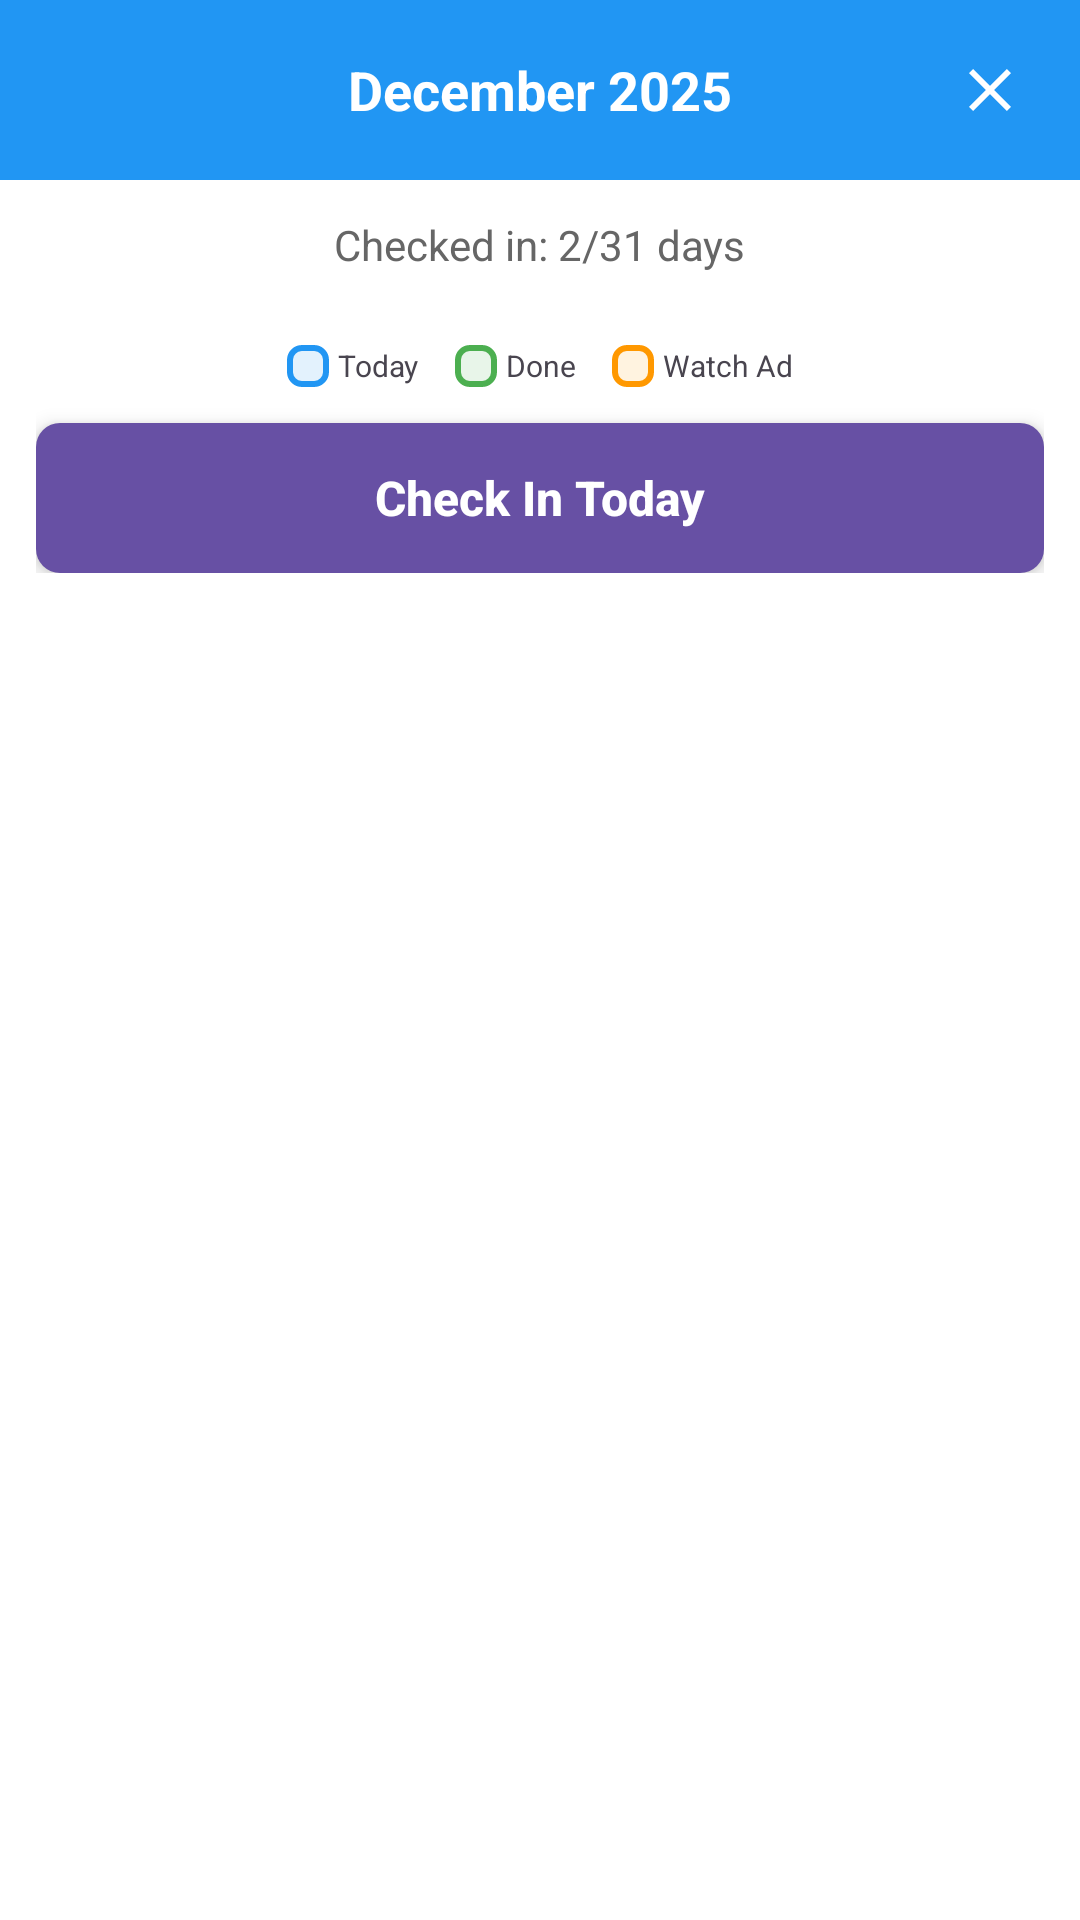

Icons on this 1080 × 1920 Android screen, each with its box as (x1, y1, x2, y2):
Close: (969, 69, 1011, 111)
